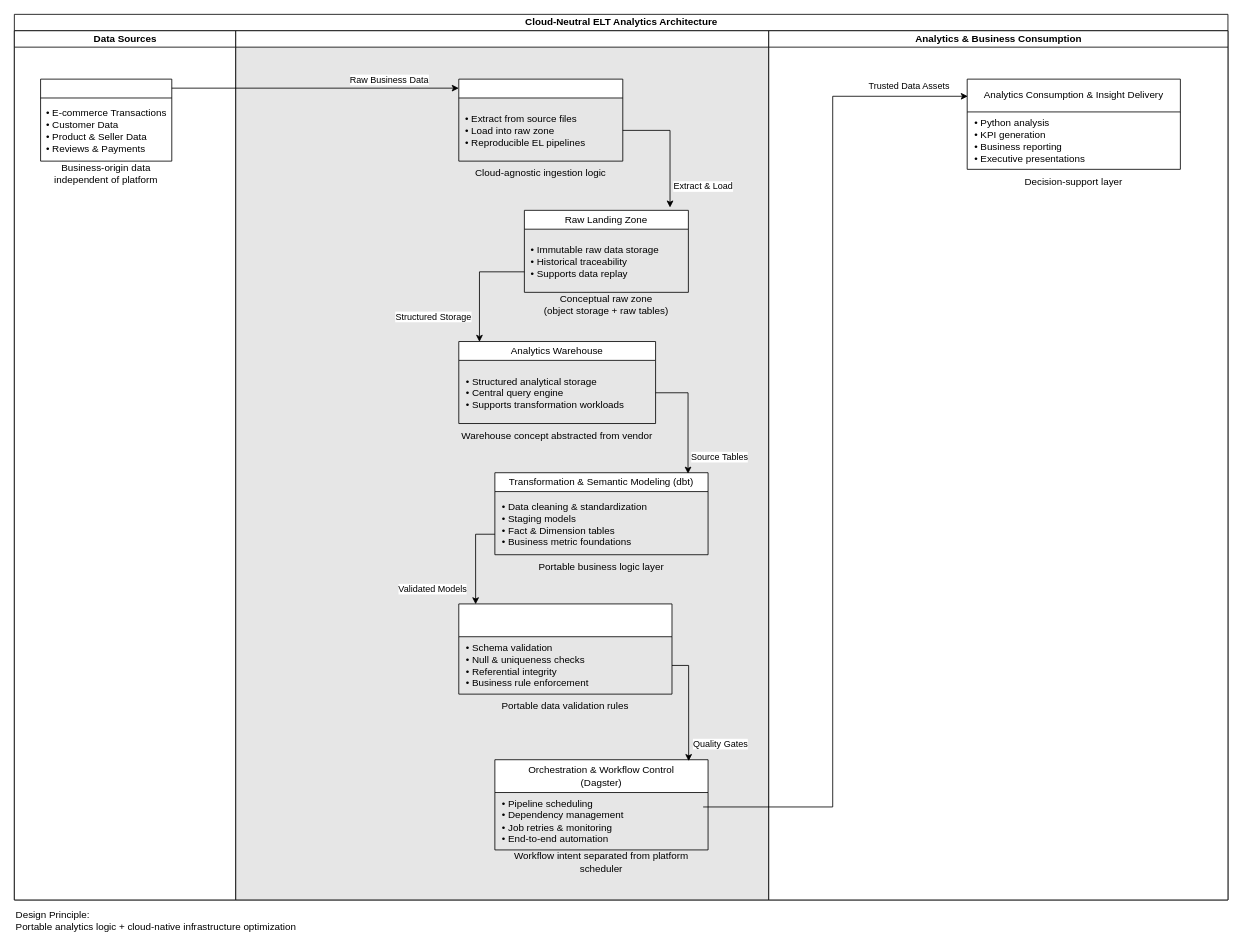
The diagram is 1242 pixels wide and 947 high, and some of its shapes have lost their labels. The shapes that lost their labels are listed below. From the top down, each one's box as (x1, y1, x2, y2) in pixels, then its label:
(40, 78, 172, 161): Source Systems
(458, 78, 623, 161): Ingestion Layer (Meltano)
(235, 30, 769, 900): Data Platform Core
(458, 603, 672, 694): Data Quality & Trust Layer (Great Expectations)
